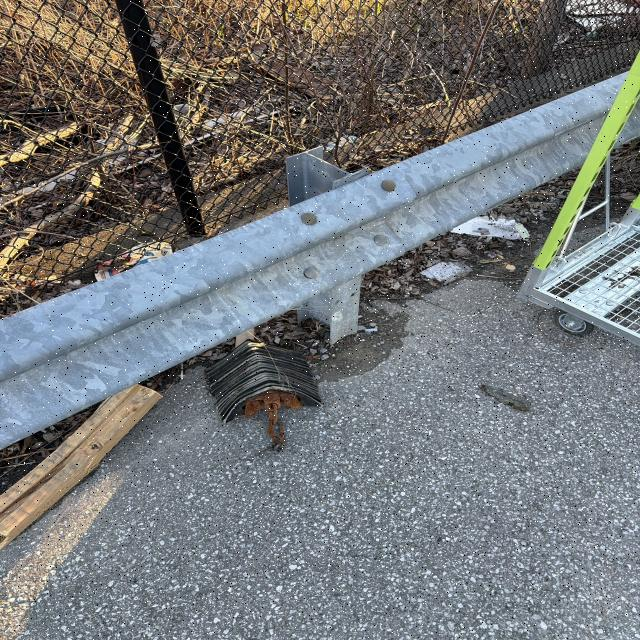Guard rail: (33, 104, 632, 420)
